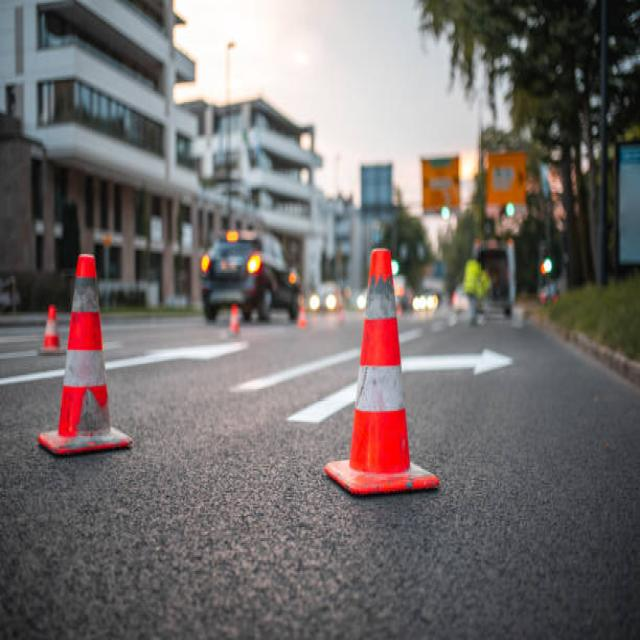Traffic Cone: (315, 223, 448, 504), (39, 235, 135, 483)
